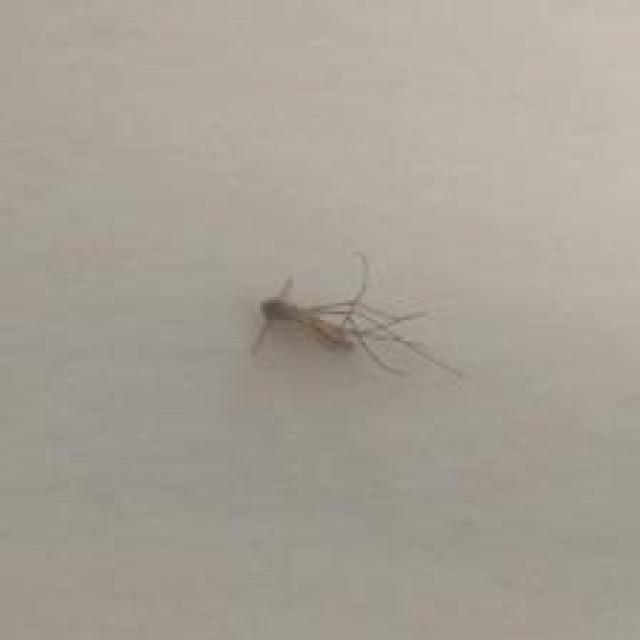Culex: (248, 249, 466, 380)
